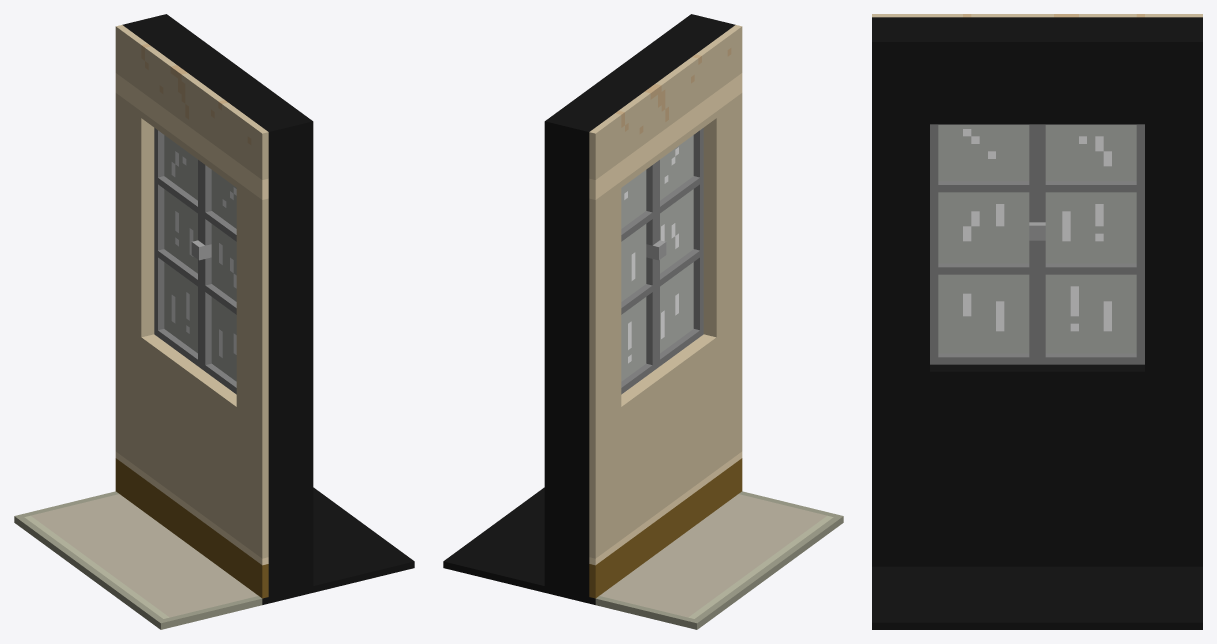
The model's file is Parede_janela.obj.
3 renders of one model, left to right at view 1: azimuth 30°, elevation 25°; view 2: azimuth 150°, elevation 25°; view 3: azimuth 270°, elevation 25°, orthographic. The views are drawn at different scales.
Size of the model in its own units: 40 by 71 by 40.
1 material, 1 textured.
